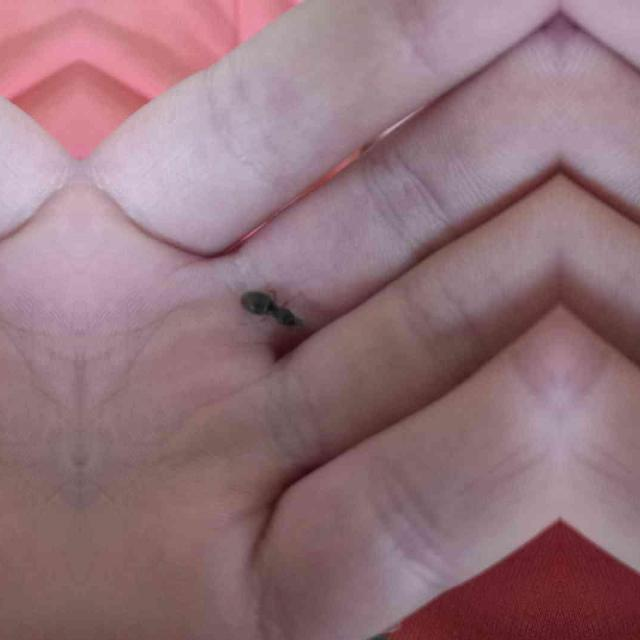Lasius: (238, 280, 324, 338)
